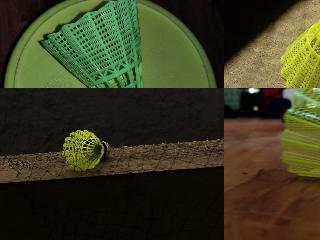shuttlecock: (38, 0, 160, 87), (279, 88, 319, 195), (279, 0, 319, 87), (62, 130, 110, 170)
